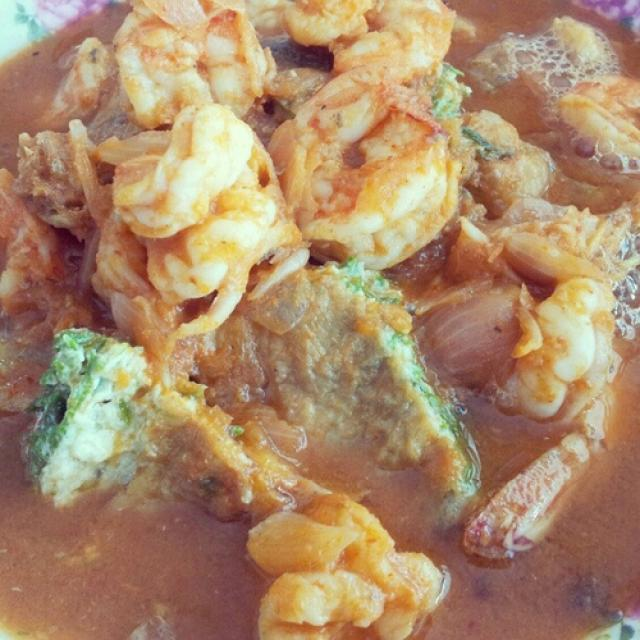汤锅炖物: (5, 8, 627, 623)
